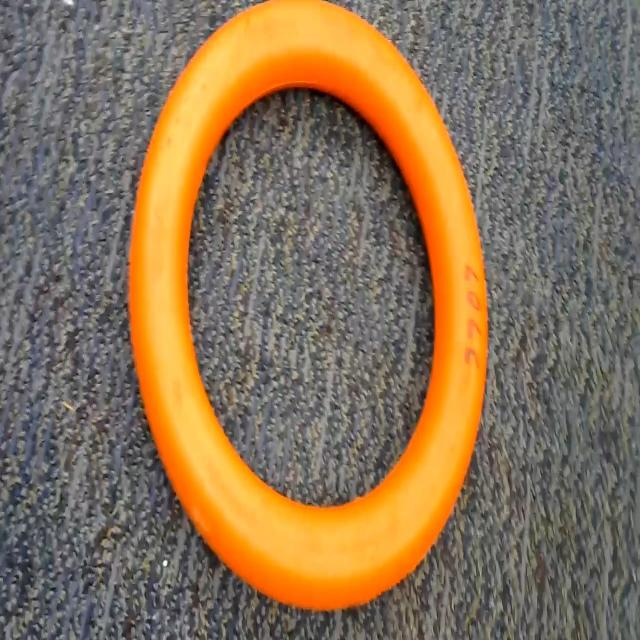note: (120, 3, 507, 624)
